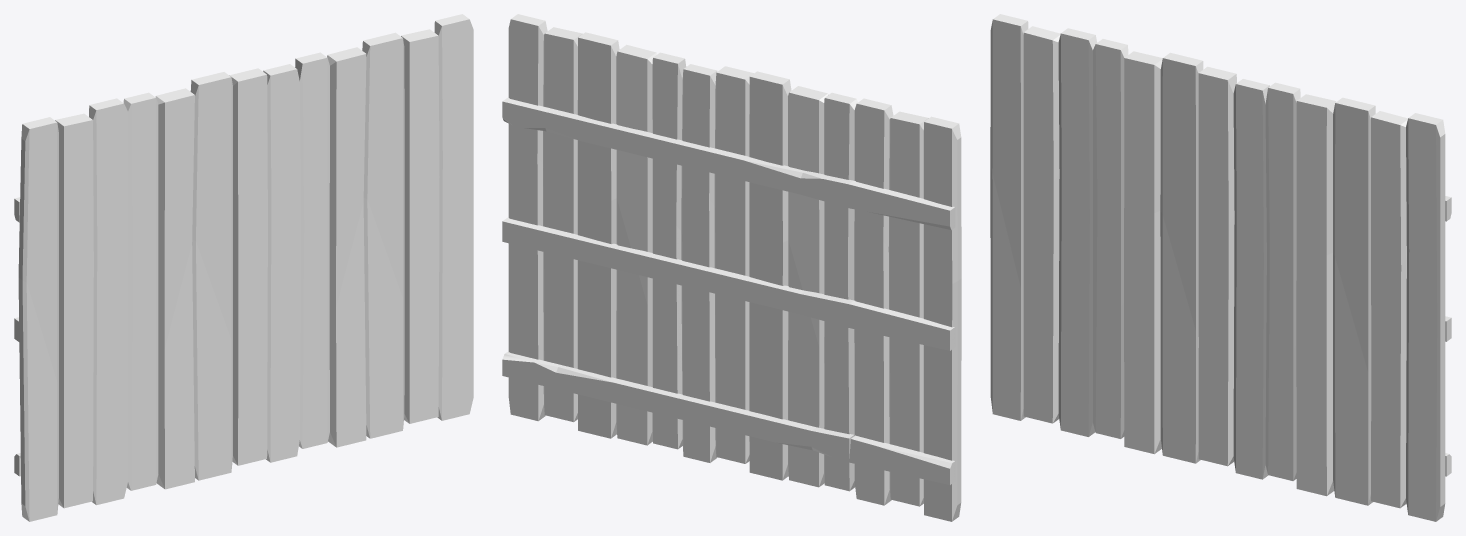
Rendered from SM_Env_Fence_Wood_Straight_01.obj.
3 renders of one model, left to right at view 1: azimuth 30°, elevation 25°; view 2: azimuth 150°, elevation 25°; view 3: azimuth 330°, elevation 25°, orthographic.
Parts seen in each view (by area): view 1: SM_Env_Fence_Wood_Straight_01_Mat_SwatchOverlay_PolygonTown_01_W; view 2: SM_Env_Fence_Wood_Straight_01_Mat_SwatchOverlay_PolygonTown_01_W; view 3: SM_Env_Fence_Wood_Straight_01_Mat_SwatchOverlay_PolygonTown_01_W.
Part boxes in pixels (x1,y1,x2,y2): SM_Env_Fence_Wood_Straight_01_Mat_SwatchOverlay_PolygonTown_01_W: [14, 14, 473, 521]; SM_Env_Fence_Wood_Straight_01_Mat_SwatchOverlay_PolygonTown_01_W: [502, 14, 961, 521]; SM_Env_Fence_Wood_Straight_01_Mat_SwatchOverlay_PolygonTown_01_W: [990, 14, 1451, 521].
Bounding box in the file's own units: 2.51 × 2.11 × 0.1397.
1 material, 1 textured.
